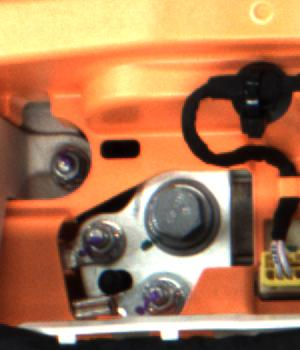nut_b: (143, 176, 227, 260)
screw_s: (132, 273, 183, 314), (77, 220, 124, 258), (51, 148, 86, 186)
